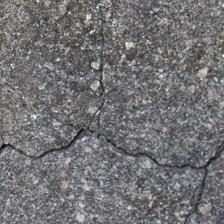Crack: (44, 48, 132, 173), (0, 69, 100, 152), (9, 20, 55, 69)
